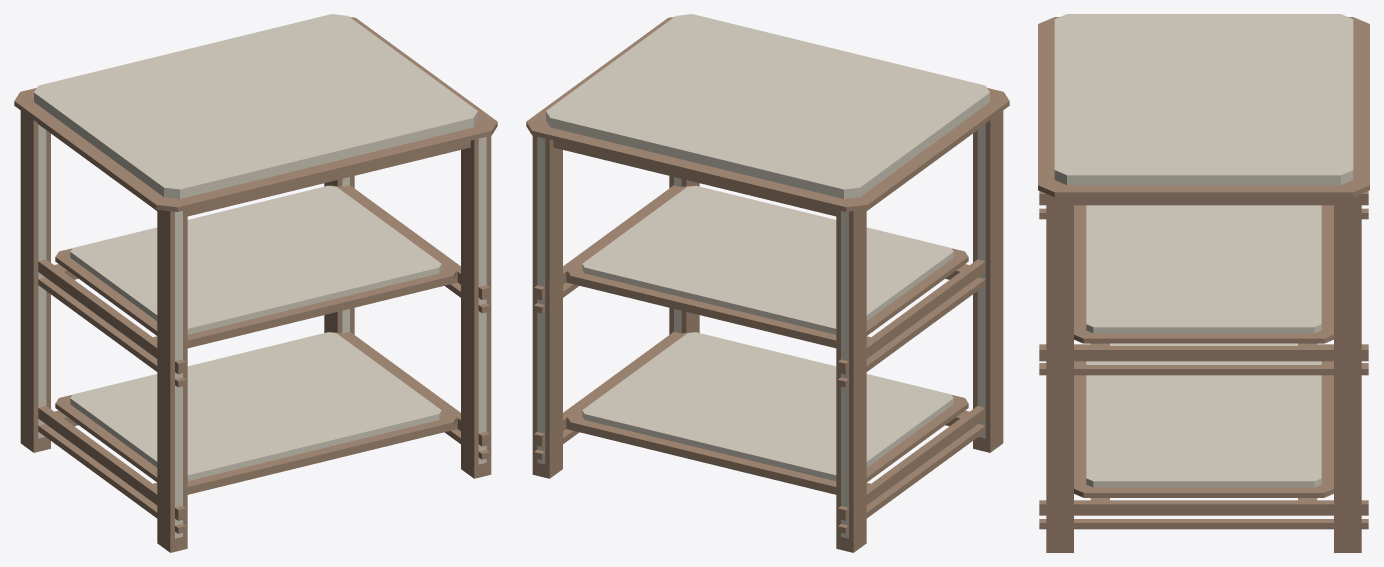
3 renders of one model, left to right at view 1: azimuth 30°, elevation 25°; view 2: azimuth 150°, elevation 25°; view 3: azimuth 270°, elevation 25°, orthographic. The views are drawn at different scales.
Parts seen in each view (by area): view 1: P094 Top maple-veneered plywood raised panel, P084 Middle maple-veneered plywood raised panel, P074 Lower maple-veneered plywood raised panel, P010 Leg 12 walnut cheek, P002 Leg 11 walnut cheek, P018 Leg 21 walnut cheek, P085 Top mitred perimeter strip 1, P065 Lower mitred perimeter strip 1, P075 Middle mitred perimeter strip 1, P091 Top mitred perimeter strip 7, P061 Top front/back apron, P019 Leg 21 walnut cheek (+21 smaller); view 2: P094 Top maple-veneered plywood raised panel, P084 Middle maple-veneered plywood raised panel, P074 Lower maple-veneered plywood raised panel, P002 Leg 11 walnut cheek, P010 Leg 12 walnut cheek, P026 Leg 22 walnut cheek, P089 Top mitred perimeter strip 5, P069 Lower mitred perimeter strip 5, P079 Middle mitred perimeter strip 5, P091 Top mitred perimeter strip 7, P062 Top front/back apron, P027 Leg 22 walnut cheek (+21 smaller); view 3: P094 Top maple-veneered plywood raised panel, P084 Middle maple-veneered plywood raised panel, P074 Lower maple-veneered plywood raised panel, P019 Leg 21 walnut cheek, P027 Leg 22 walnut cheek, P087 Top mitred perimeter strip 3, P038 Lower through bracing line, P052 Middle through bracing line, P085 Top mitred perimeter strip 1, P089 Top mitred perimeter strip 5, P077 Middle mitred perimeter strip 3, P067 Lower mitred perimeter strip 3 (+9 smaller).
Part boxes in pixels (left/top/right/bottom): P094 Top maple-veneered plywood raised panel: left=34, top=14, right=477, bottom=198; P084 Middle maple-veneered plywood raised panel: left=70, top=185, right=441, bottom=334; P074 Lower maple-veneered plywood raised panel: left=70, top=332, right=441, bottom=481; P010 Leg 12 walnut cheek: left=20, top=111, right=38, bottom=439; P002 Leg 11 walnut cheek: left=157, top=209, right=174, bottom=539; P018 Leg 21 walnut cheek: left=461, top=138, right=478, bottom=465; P085 Top mitred perimeter strip 1: left=177, top=127, right=491, bottom=211; P065 Lower mitred perimeter strip 1: left=187, top=420, right=453, bottom=491; P075 Middle mitred perimeter strip 1: left=187, top=273, right=453, bottom=345; P091 Top mitred perimeter strip 7: left=14, top=101, right=162, bottom=209; P061 Top front/back apron: left=187, top=140, right=470, bottom=216; P019 Leg 21 walnut cheek: left=486, top=135, right=491, bottom=462; P094 Top maple-veneered plywood raised panel: left=546, top=14, right=989, bottom=198; P084 Middle maple-veneered plywood raised panel: left=582, top=185, right=953, bottom=334; P074 Lower maple-veneered plywood raised panel: left=582, top=332, right=953, bottom=481; P002 Leg 11 walnut cheek: left=985, top=111, right=1003, bottom=439; P010 Leg 12 walnut cheek: left=849, top=209, right=866, bottom=539; P026 Leg 22 walnut cheek: left=545, top=138, right=562, bottom=465; P089 Top mitred perimeter strip 5: left=532, top=127, right=846, bottom=211; P069 Lower mitred perimeter strip 5: left=570, top=420, right=836, bottom=491; P079 Middle mitred perimeter strip 5: left=570, top=273, right=836, bottom=345; P091 Top mitred perimeter strip 7: left=861, top=101, right=1009, bottom=209; P062 Top front/back apron: left=553, top=140, right=836, bottom=216; P027 Leg 22 walnut cheek: left=532, top=135, right=537, bottom=462; P094 Top maple-veneered plywood raised panel: left=1054, top=14, right=1353, bottom=185; P084 Middle maple-veneered plywood raised panel: left=1086, top=205, right=1321, bottom=333; P074 Lower maple-veneered plywood raised panel: left=1086, top=344, right=1321, bottom=487; P019 Leg 21 walnut cheek: left=1046, top=194, right=1073, bottom=539; P027 Leg 22 walnut cheek: left=1334, top=194, right=1361, bottom=539; P087 Top mitred perimeter strip 3: left=1054, top=185, right=1353, bottom=197; P038 Lower through bracing line: left=1039, top=519, right=1368, bottom=529; P052 Middle through bracing line: left=1039, top=365, right=1368, bottom=375; P085 Top mitred perimeter strip 1: left=1038, top=24, right=1054, bottom=184; P089 Top mitred perimeter strip 5: left=1353, top=24, right=1369, bottom=184; P077 Middle mitred perimeter strip 3: left=1083, top=333, right=1324, bottom=343; P067 Lower mitred perimeter strip 3: left=1083, top=487, right=1324, bottom=497.
Bounding box in the file's own units: 0.6 × 0.6 × 0.48.
